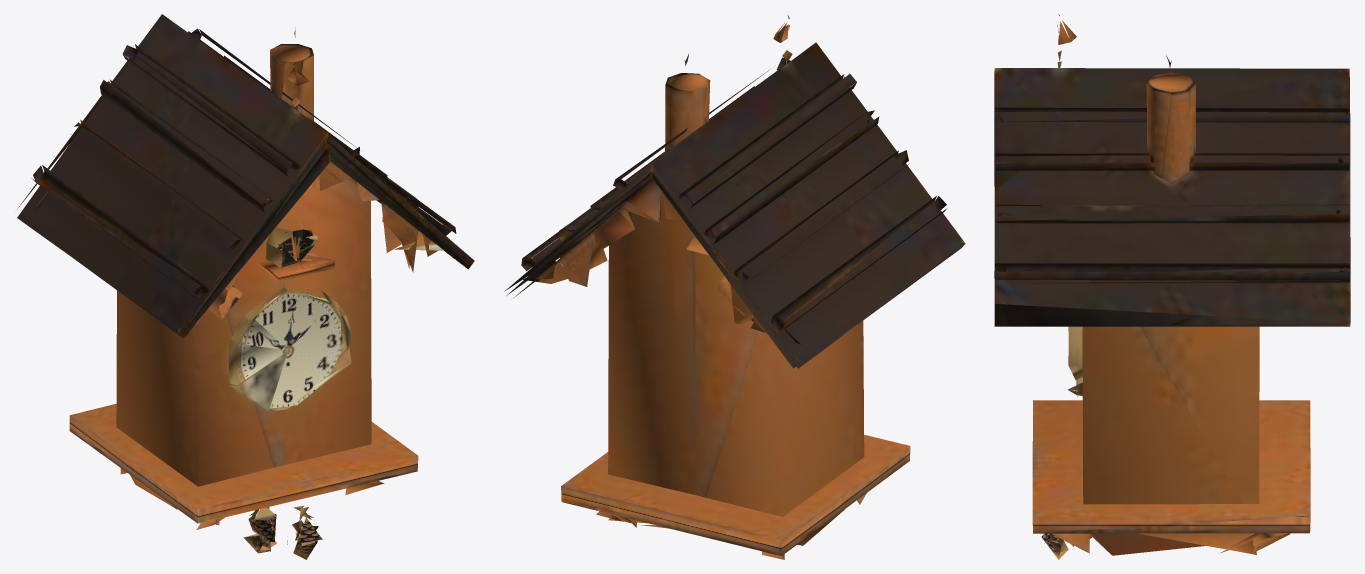
File: keepsake-cuckoo-clock.lod1.glb
The picture shows the model from 3 angles, left to right: view 1: azimuth 30°, elevation 25°; view 2: azimuth 150°, elevation 25°; view 3: azimuth 270°, elevation 25°; orthographic projection. The views are drawn at different scales.
Visible parts, largest first — view 1: keepsake-cuckoo-clock_lod1; view 2: keepsake-cuckoo-clock_lod1; view 3: keepsake-cuckoo-clock_lod1.
Part boxes in pixels (x1,y1,x2,y2): keepsake-cuckoo-clock_lod1: (17, 14, 474, 559); keepsake-cuckoo-clock_lod1: (504, 15, 965, 559); keepsake-cuckoo-clock_lod1: (994, 14, 1350, 559).
Bounding box in the file's own units: 0.5611 × 0.9046 × 0.5401.
1 material, 1 textured.
